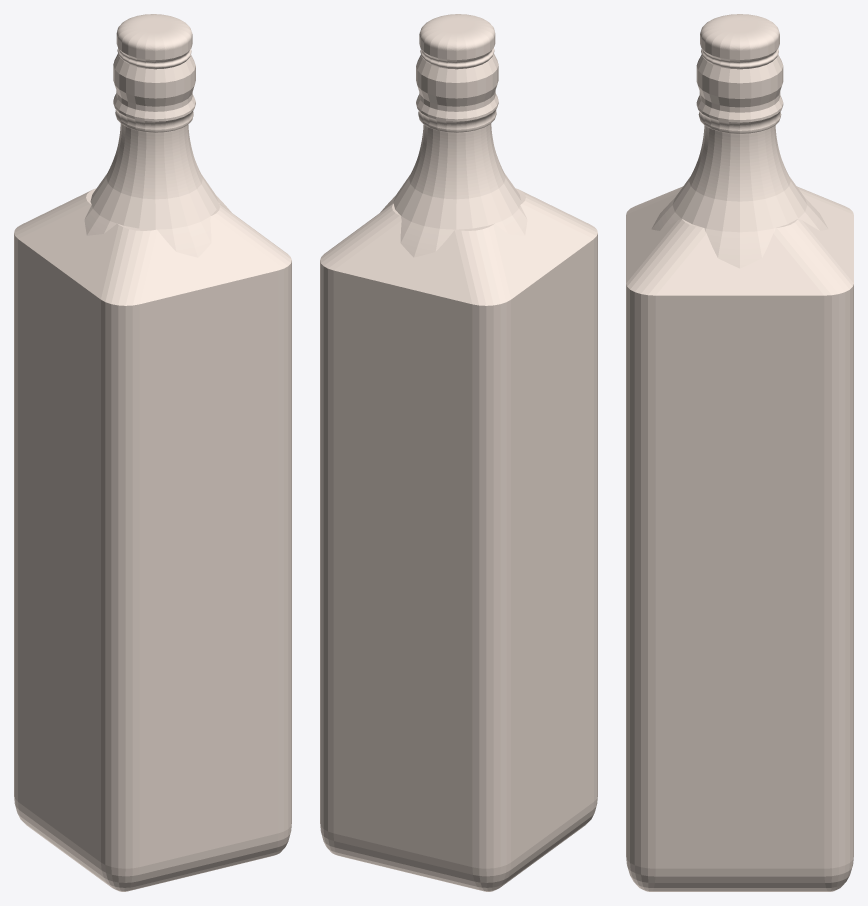
File: JWRed.gltf
3 renders of one model, left to right at view 1: azimuth 30°, elevation 25°; view 2: azimuth 150°, elevation 25°; view 3: azimuth 270°, elevation 25°, orthographic.
Visible parts, largest first — view 1: node-0; view 2: node-0; view 3: node-0.
Part boxes in pixels (box(x1,y1,x2,y2)): node-0: box(14, 14, 291, 891); node-0: box(320, 14, 597, 891); node-0: box(626, 14, 853, 891).
Size of the model in its own units: 0.0563 by 0.2342 by 0.0583.
